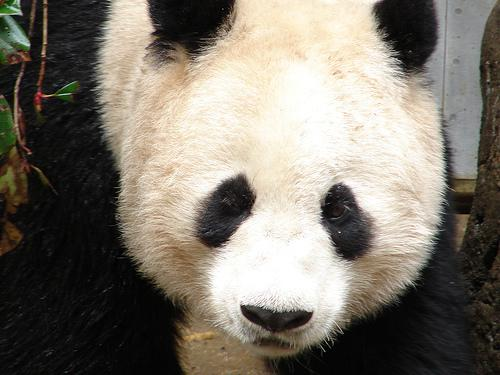panda: (0, 0, 473, 374)
